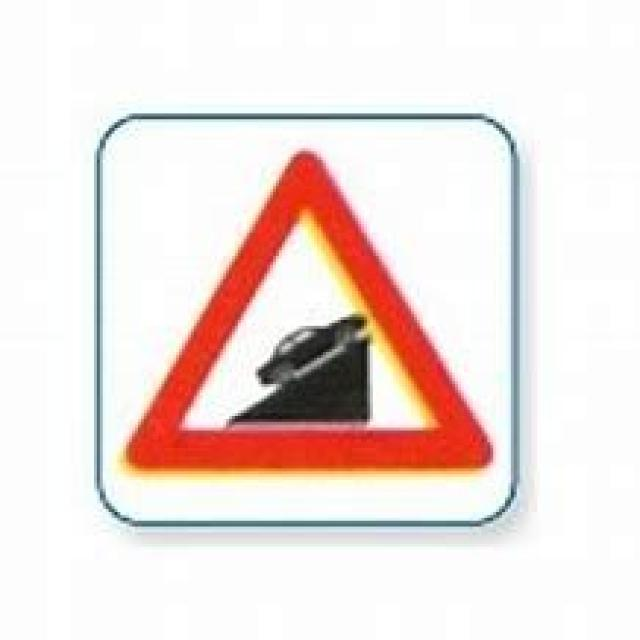steep ascent: (124, 139, 493, 477)
